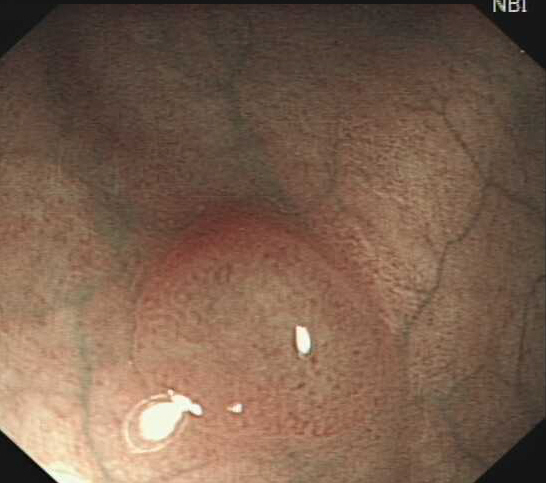adenoma: (125, 214, 390, 483)
